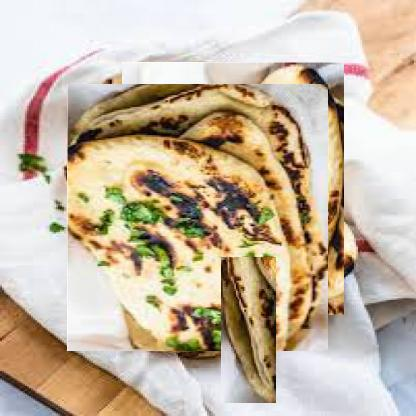naan: (67, 83, 328, 351), (115, 70, 352, 308), (84, 97, 217, 323), (198, 279, 298, 381)
